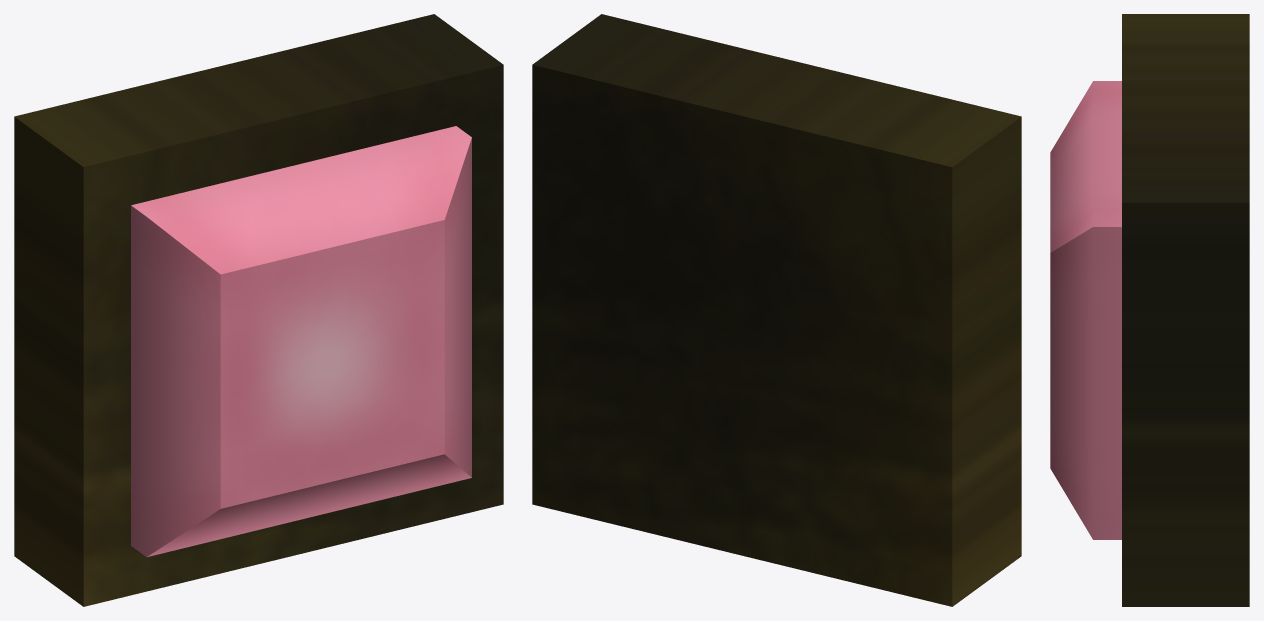
The model's file is RedButton.fbx.
3 views of the same model, side by side, from view 1: azimuth 30°, elevation 25°; view 2: azimuth 150°, elevation 25°; view 3: azimuth 270°, elevation 25° (orthographic). The views are drawn at different scales.
Parts seen in each view (by area): view 1: base2, lit2; view 2: base2; view 3: base2, lit2.
Part boxes in pixels (box(x1,y1,x2,y2)): base2: box(14, 14, 503, 606); lit2: box(131, 126, 471, 557); base2: box(532, 14, 1021, 606); base2: box(1122, 14, 1249, 606); lit2: box(1050, 81, 1121, 539).
Size of the model in its own units: 0.4559 by 0.4559 by 0.2036.
Materials: 1 (1 with a texture image).
